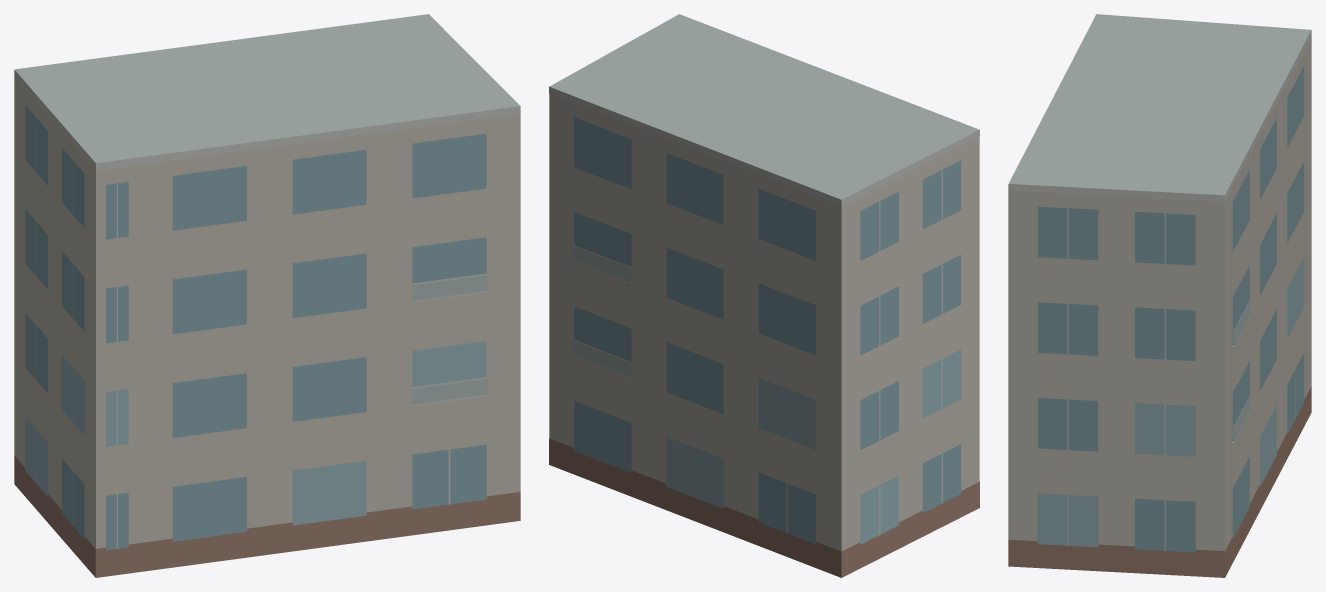
File: survey-upis-32806003.glb
3 views of the same model, side by side, from view 1: azimuth 30°, elevation 25°; view 2: azimuth 150°, elevation 25°; view 3: azimuth 270°, elevation 25° (orthographic). The views are drawn at different scales.
Visible parts, largest first — view 1: survey-upis-32806003.tmp; view 2: survey-upis-32806003.tmp; view 3: survey-upis-32806003.tmp.
Boxes of the visible parts, bbox=[...] form: survey-upis-32806003.tmp: bbox=[14, 14, 520, 577]; survey-upis-32806003.tmp: bbox=[549, 14, 979, 577]; survey-upis-32806003.tmp: bbox=[1008, 14, 1311, 577].
Size of the model in its own units: 13.73 by 13.5 by 9.7.
